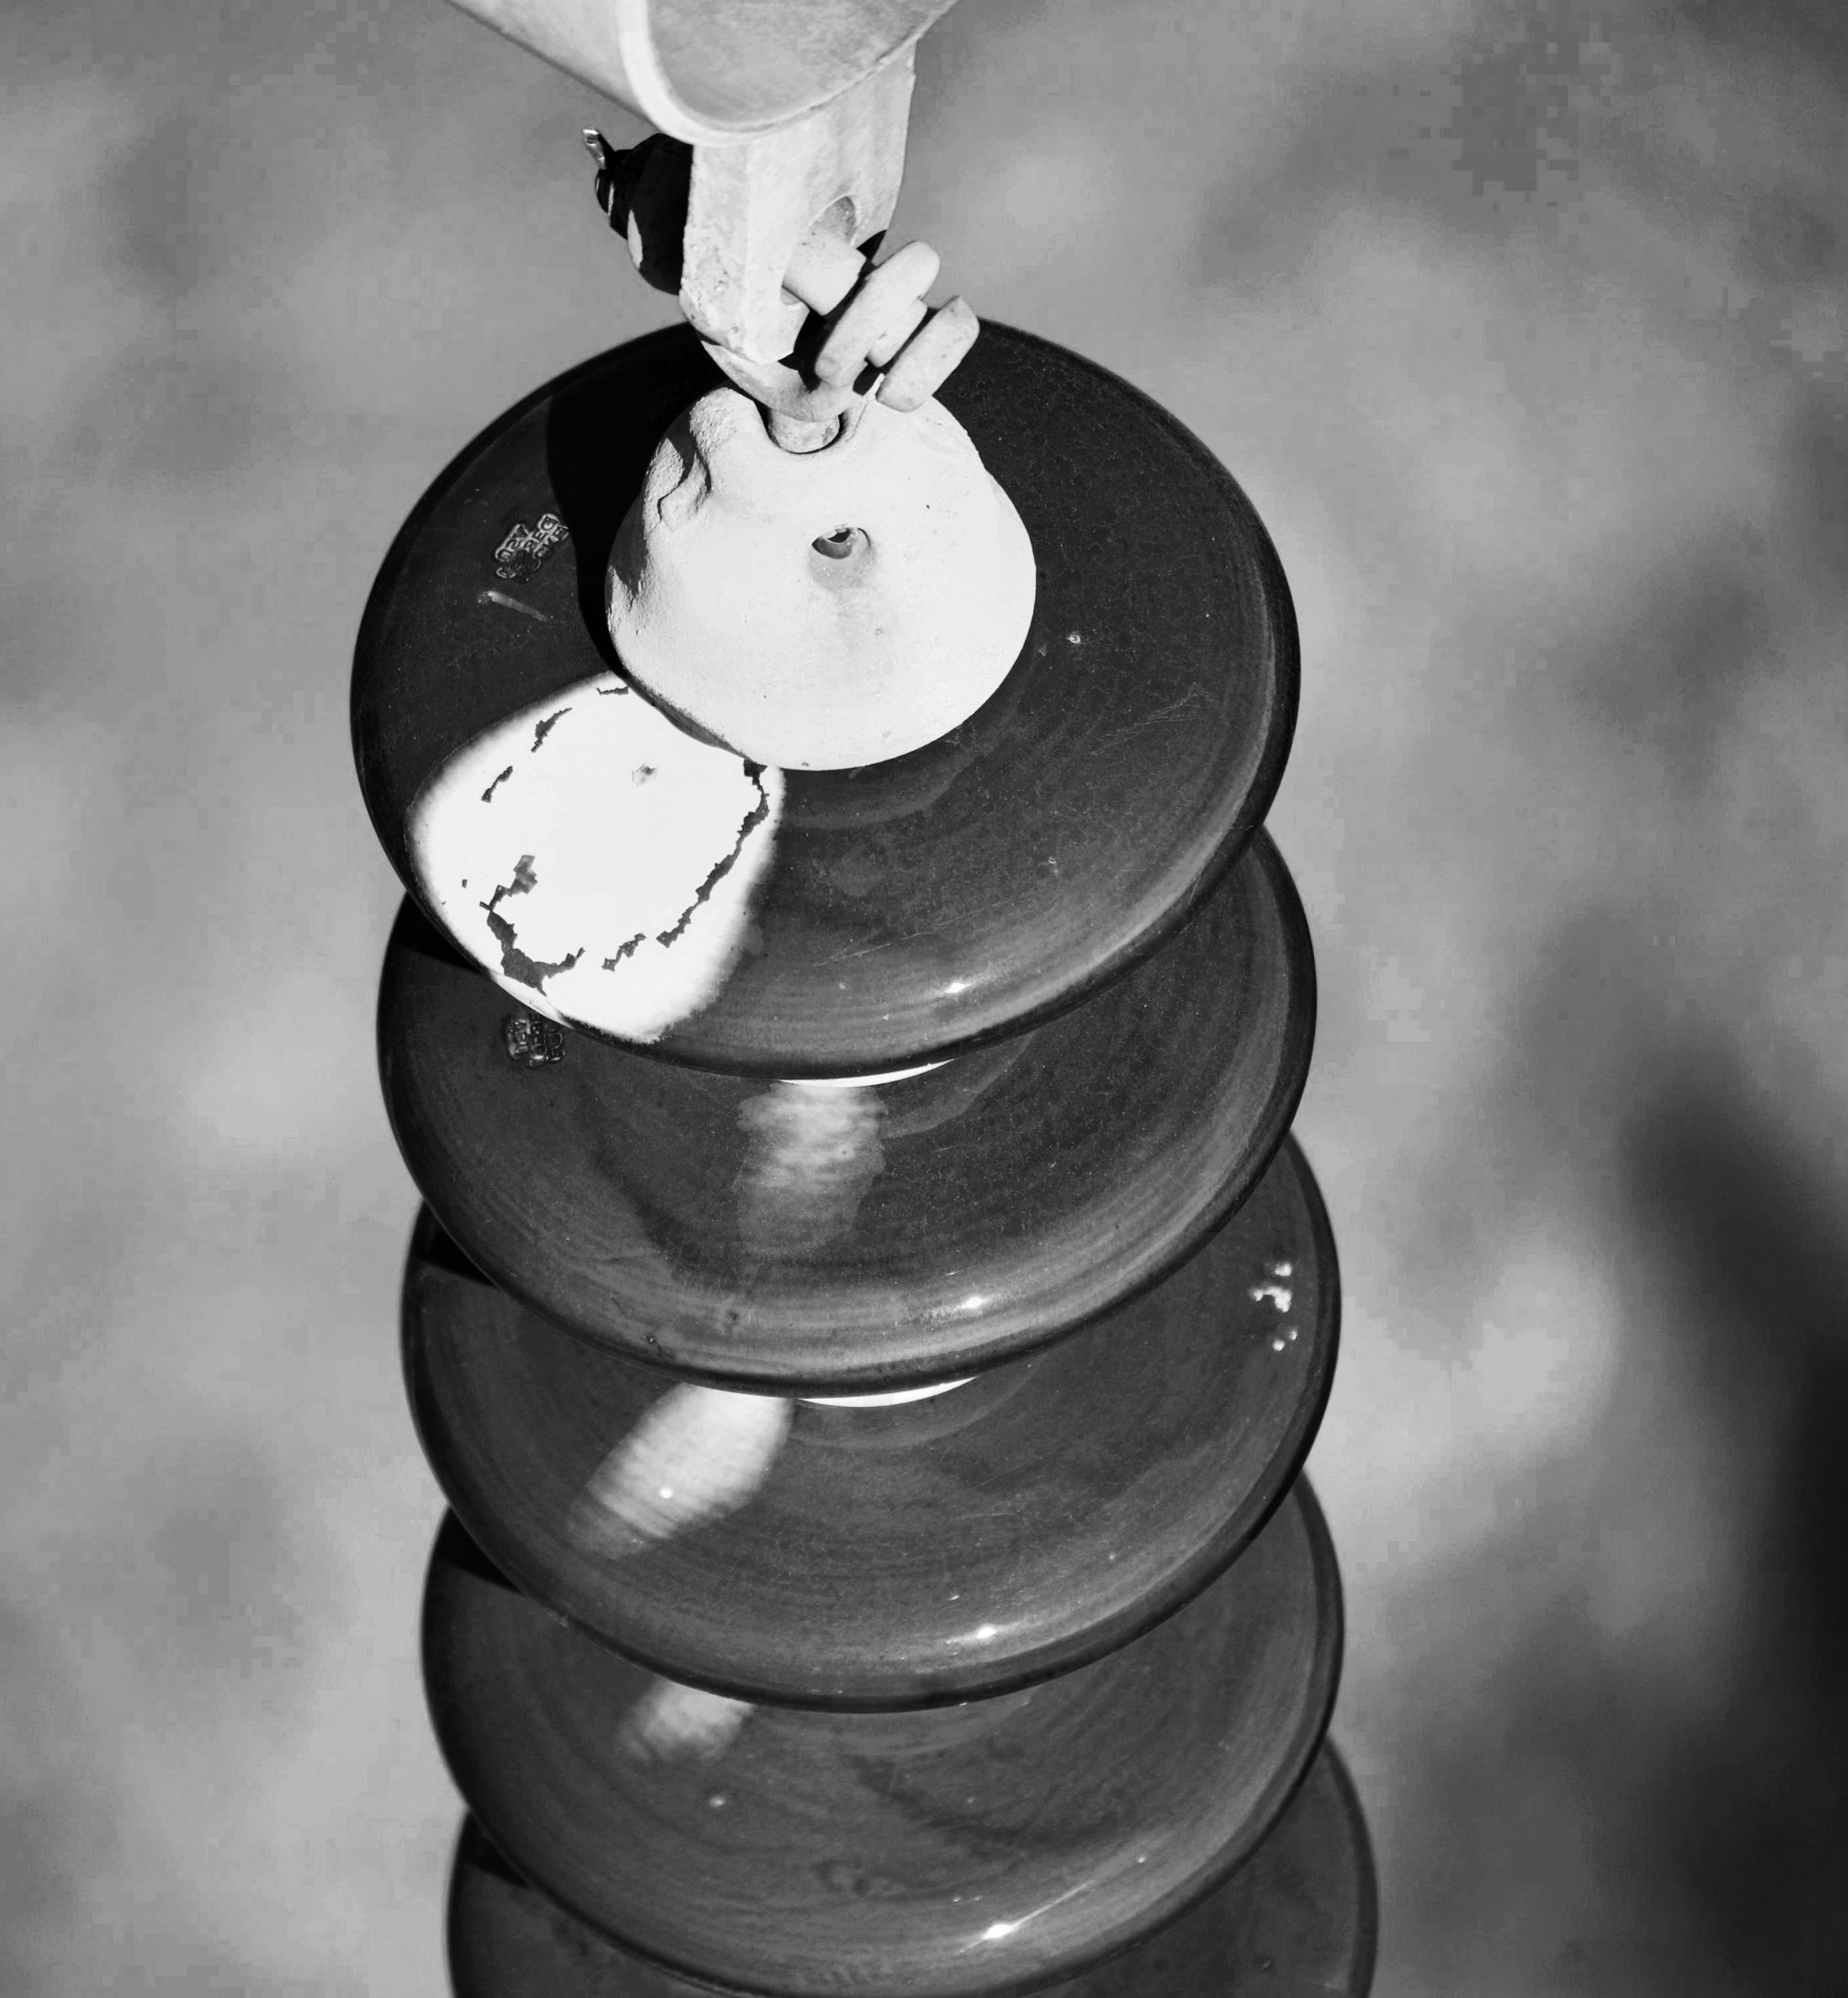Insulator flashover: (329, 303, 1326, 1095)
